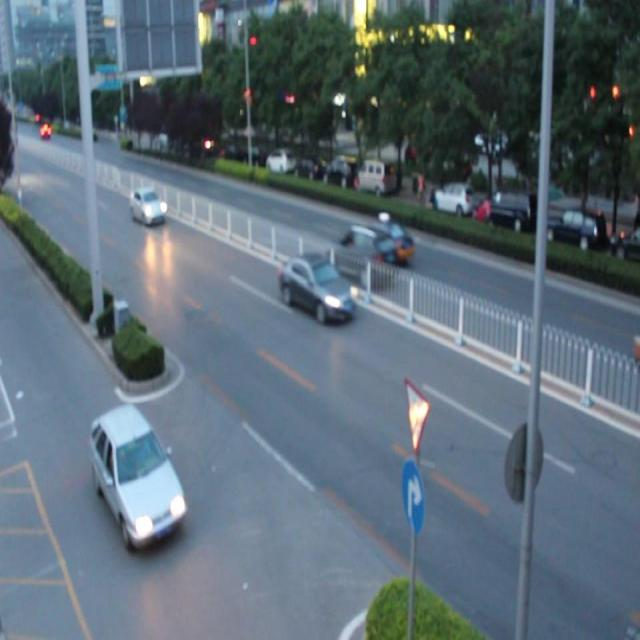car: (89, 400, 187, 542), (278, 251, 355, 323), (332, 230, 393, 287), (358, 215, 414, 265), (129, 184, 168, 226)
